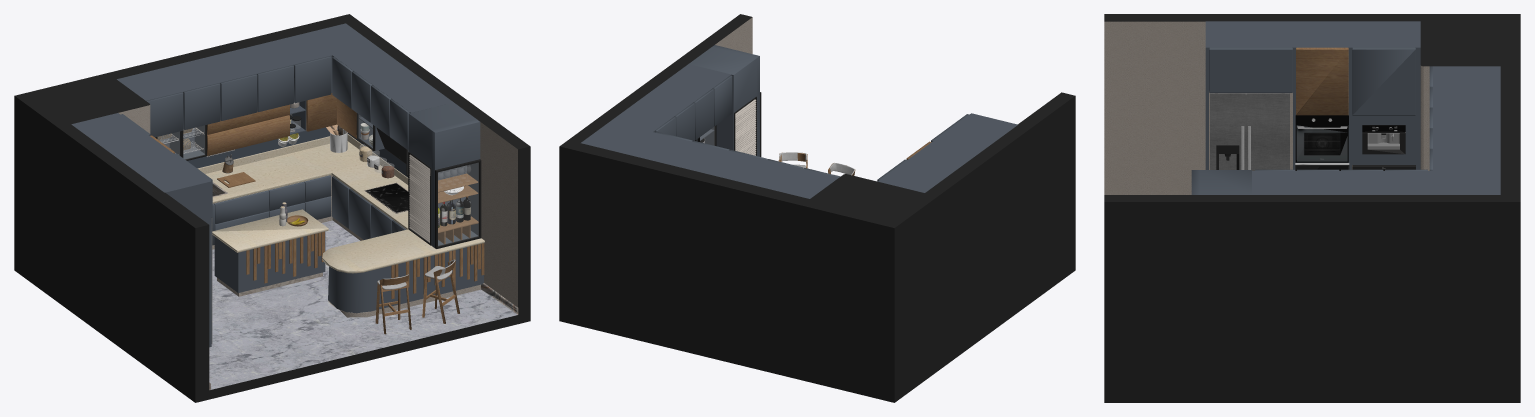
Rendered from kitchen-mid.glb.
3 views of the same model, side by side, from view 1: azimuth 30°, elevation 25°; view 2: azimuth 150°, elevation 25°; view 3: azimuth 270°, elevation 25° (orthographic). The views are drawn at different scales.
Visible parts, largest first — view 1: Walls_Black_0, Cabinets_Closet_0, Walls_Floor_0, Cabinets_Countertop_0, WoodCabinet_OakWood_0, Walls_White_0, GlassC_Glass_0, Island_Closet_0, Island_Countertop_0, Walls_ClosetGlossy_0, Stool_OakWood_0, Vent_Chrome_0 (+4 smaller); view 2: Walls_Black_0, Cabinets_Closet_0, Vent_Chrome_0, Walls_White_0; view 3: Walls_Black_0, Cabinets_Closet_0, Walls_White_0, RLF_74925_Aluminum_0, WoodCabinet_OakWood_0, HLB_840_Front.001_0, HLB_840_Black_Metal_0, CLC855_URBAN_Grey_0, CLC855_URBAN_Black_0.
Part boxes in pixels (x1,y1,x2,y2): Walls_Black_0: (14, 14, 530, 402); Cabinets_Closet_0: (71, 23, 483, 347); Walls_Floor_0: (209, 220, 517, 389); Cabinets_Countertop_0: (197, 134, 484, 273); WoodCabinet_OakWood_0: (150, 93, 484, 298); Walls_White_0: (118, 105, 517, 307); GlassC_Glass_0: (158, 114, 478, 245); Island_Closet_0: (214, 232, 325, 292); Island_Countertop_0: (212, 209, 328, 252); Walls_ClosetGlossy_0: (187, 125, 408, 177); Stool_OakWood_0: (375, 260, 459, 334); Vent_Chrome_0: (409, 154, 430, 242); Walls_Black_0: (559, 14, 1075, 402); Cabinets_Closet_0: (581, 45, 1017, 198); Vent_Chrome_0: (735, 99, 756, 155); Walls_White_0: (715, 17, 752, 53); Walls_Black_0: (1104, 14, 1520, 402); Cabinets_Closet_0: (1191, 21, 1500, 194); Walls_White_0: (1104, 21, 1429, 194); RLF_74925_Aluminum_0: (1210, 93, 1289, 170); WoodCabinet_OakWood_0: (1296, 47, 1348, 115); HLB_840_Front.001_0: (1296, 125, 1347, 161); HLB_840_Black_Metal_0: (1295, 115, 1348, 162); CLC855_URBAN_Grey_0: (1367, 133, 1399, 149); CLC855_URBAN_Black_0: (1362, 125, 1405, 154).
Bounding box in the file's own units: 6.57 × 3.27 × 6.14.
90 materials, 41 textured.
